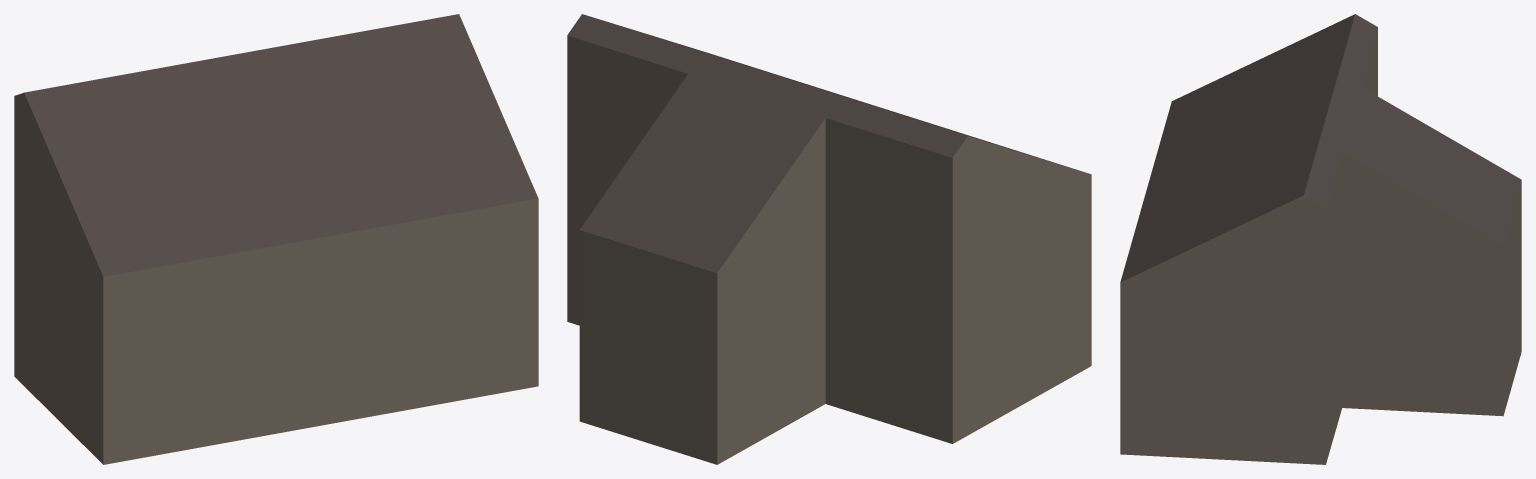
3 views of the same model, side by side, from view 1: azimuth 30°, elevation 25°; view 2: azimuth 150°, elevation 25°; view 3: azimuth 270°, elevation 25° (orthographic). The views are drawn at different scales.
Visible parts, largest first — view 1: HP-w1202494171; view 2: HP-w1202494171; view 3: HP-w1202494171.
Boxes of the visible parts, left/top/right/bottom form: HP-w1202494171: left=14, top=14, right=538, bottom=464; HP-w1202494171: left=567, top=14, right=1091, bottom=464; HP-w1202494171: left=1120, top=14, right=1521, bottom=464.
Size of the model in its own units: 21.57 by 14.07 by 19.07.
